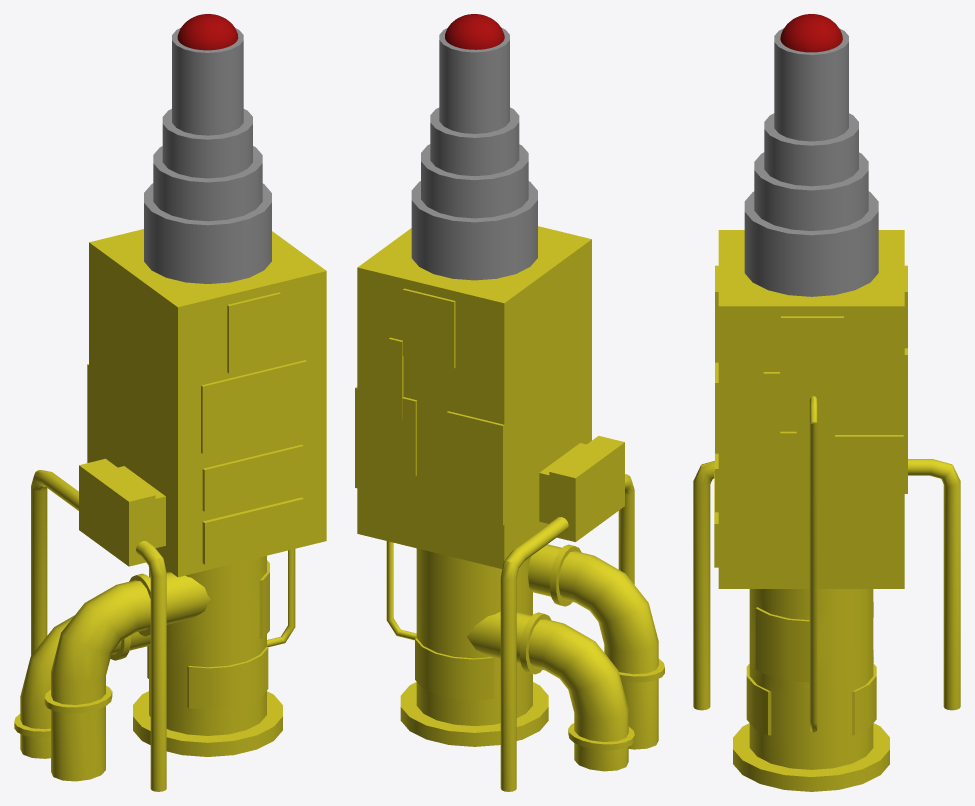
File: usina_VoltaGrande_maquina_geradora.FBX
The picture shows the model from 3 angles, left to right: view 1: azimuth 30°, elevation 25°; view 2: azimuth 150°, elevation 25°; view 3: azimuth 270°, elevation 25°; orthographic projection. The views are drawn at different scales.
Parts seen in each view (by area): view 1: Box001, Cylinder001, Line001, Box002, Line002, Line004, Cylinder005, Line003, Line006; view 2: Box001, Cylinder001, Line001, Line004, Box002, Line003, Cylinder005, Line002, Line006; view 3: Box001, Cylinder001, Object001, Line003, Cylinder005, Line002, Object002, Line006.
Part boxes in pixels (x1=…): Box001: x1=87, y1=14, x2=326, y2=577; Cylinder001: x1=147, y1=555, x2=269, y2=735; Line001: x1=44, y1=572, x2=210, y2=781; Box002: x1=79, y1=458, x2=165, y2=566; Line002: x1=136, y1=541, x2=166, y2=791; Line004: x1=14, y1=615, x2=150, y2=758; Cylinder005: x1=133, y1=691, x2=282, y2=756; Line003: x1=31, y1=470, x2=78, y2=655; Line006: x1=267, y1=549, x2=295, y2=647; Box001: x1=357, y1=14, x2=591, y2=568; Cylinder001: x1=415, y1=548, x2=532, y2=726; Line001: x1=528, y1=544, x2=664, y2=749; Line004: x1=467, y1=611, x2=634, y2=771; Box002: x1=539, y1=436, x2=624, y2=541; Line003: x1=500, y1=517, x2=568, y2=791; Cylinder005: x1=400, y1=682, x2=548, y2=746; Line002: x1=618, y1=474, x2=634, y2=584; Line006: x1=386, y1=541, x2=416, y2=640; Box001: x1=714, y1=14, x2=907, y2=588; Cylinder001: x1=746, y1=589, x2=876, y2=769; Object001: x1=763, y1=316, x2=903, y2=542; Line003: x1=908, y1=459, x2=960, y2=710; Cylinder005: x1=733, y1=723, x2=889, y2=791; Line002: x1=693, y1=461, x2=714, y2=710; Object002: x1=755, y1=608, x2=809, y2=682; Line006: x1=809, y1=396, x2=817, y2=732.
Bounding box in the file's own units: 104 × 242 × 79.04.
